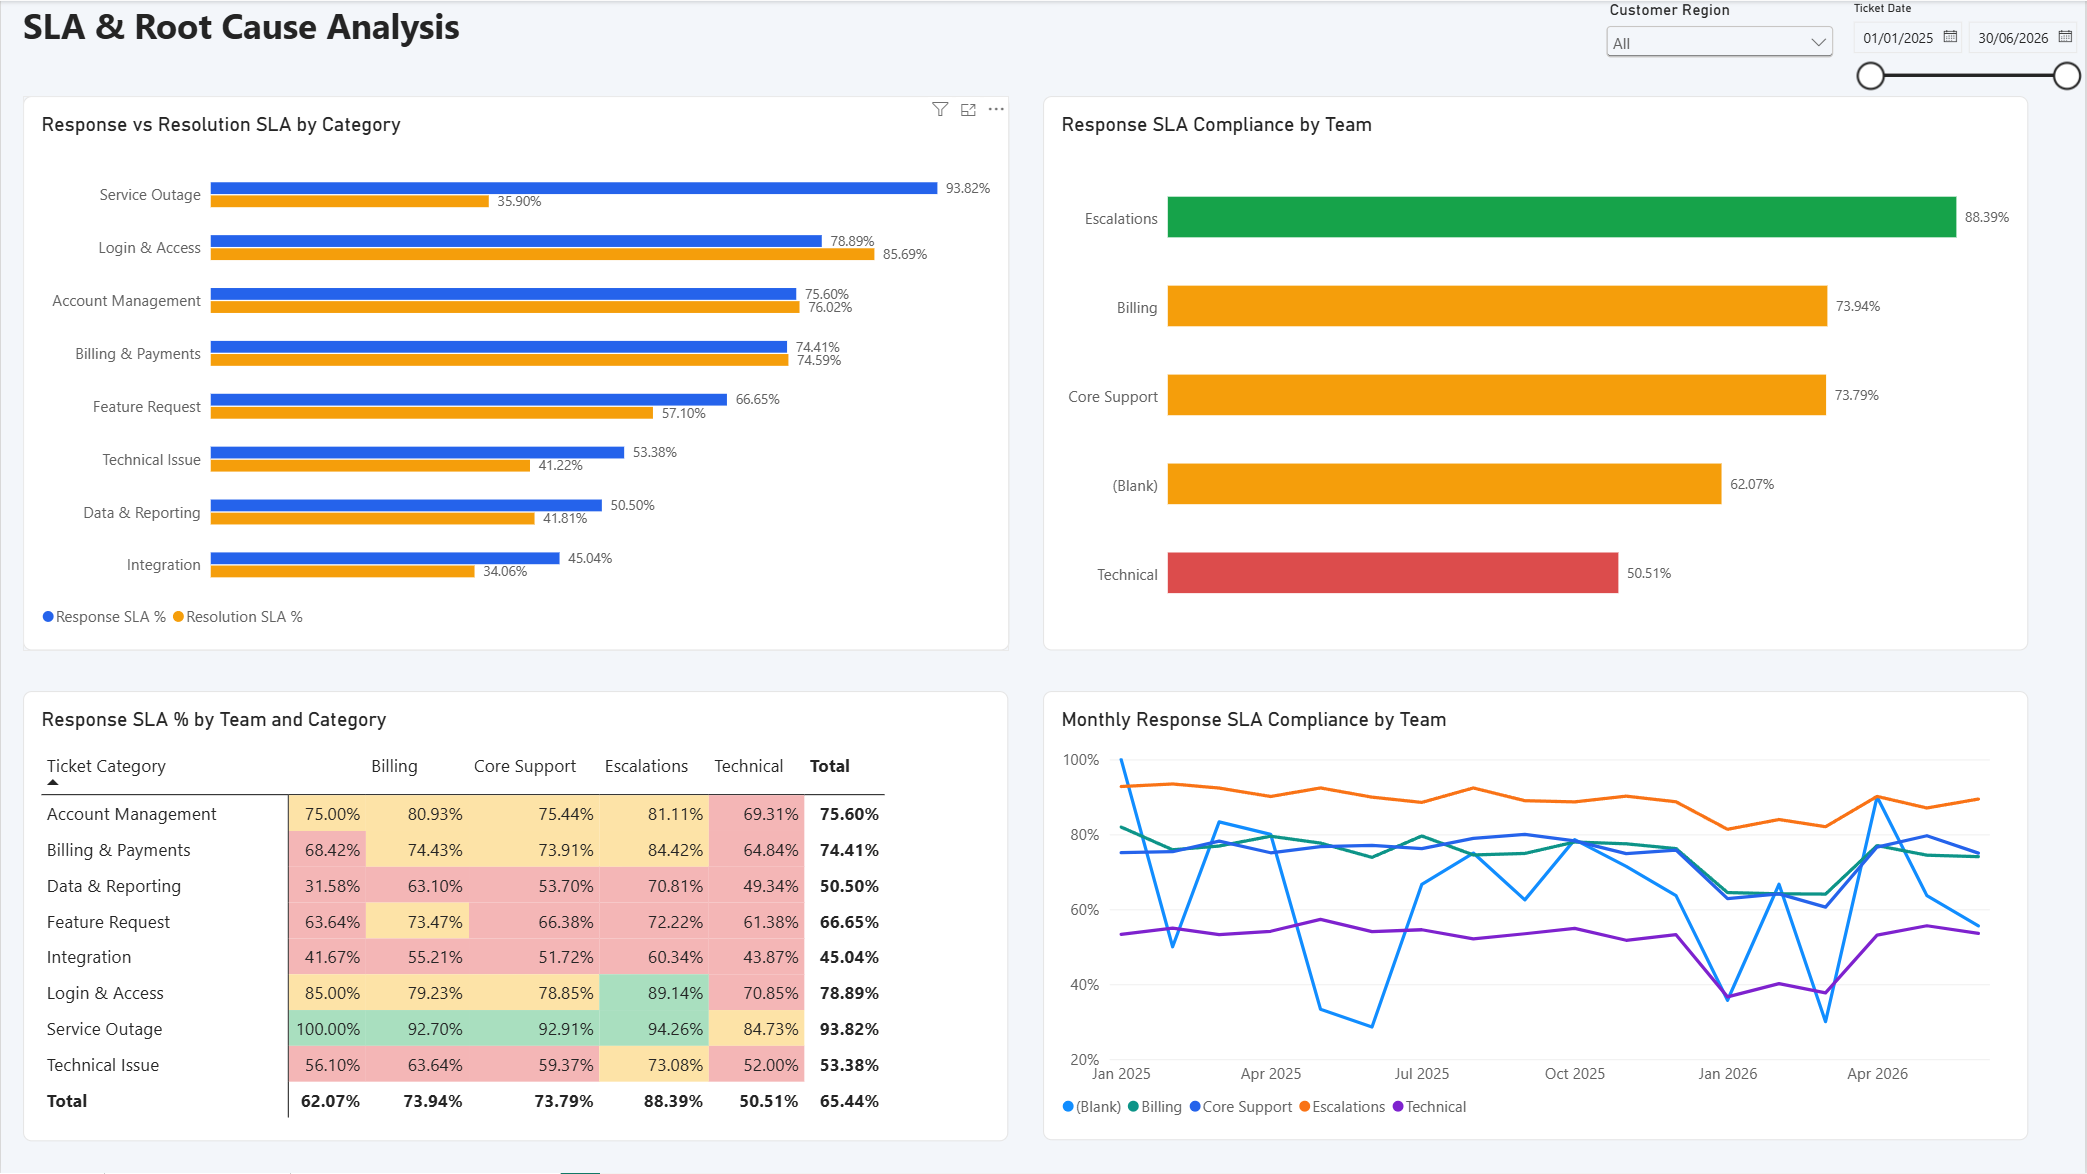

The dashboard page shown, as its layout file describes it:
{"tool":"powerbi","page":{"name":"SLA & Root Cause Analysis","canvas":[1920,1080],"ordinal":1},"visuals":[{"type":"textbox","box":[20.6,0,413.3,63.8],"z":0},{"type":"clusteredBarChart","title":"Response vs Resolution SLA by Category","fields":{"Category":["vw_ticket_analysis.category"],"Y":["vw_ticket_analysis.Response SLA %","vw_ticket_analysis.Resolution SLA %"]},"box":[20.3,87.5,908.6,511.4],"z":1000},{"type":"clusteredBarChart","title":"Response SLA Compliance by Team","fields":{"Category":["vw_ticket_analysis.team"],"Y":["vw_ticket_analysis.Response SLA %"]},"box":[960.2,87.5,907.7,511.4],"z":2000},{"type":"pivotTable","title":"Response SLA % by Team and Category","fields":{"Columns":["vw_ticket_analysis.team"],"Rows":["vw_ticket_analysis.category"],"Values":["vw_ticket_analysis.Response SLA %"]},"box":[20.3,635.8,907.7,414.7],"z":3000},{"type":"lineChart","title":"Monthly Response SLA Compliance by Team","fields":{"Category":["vw_ticket_analysis.created_at.Variation.Date Hierarchy.Year","vw_ticket_analysis.created_at.Variation.Date Hierarchy.Month","vw_ticket_analysis.created_at.Variation.Date Hierarchy.Day"],"Series":["vw_ticket_analysis.team"],"Y":["vw_ticket_analysis.Response SLA %"]},"box":[960,636.1,908,414.2],"z":4000},{"type":"slicer","fields":{"Values":["vw_ticket_analysis.created_at"]},"box":[1699.6,0,220.9,87.4],"z":5000},{"type":"slicer","fields":{"Values":["vw_ticket_analysis.region"]},"box":[1474,0,218.8,64.2],"z":6000}]}

Visuals, with their boxes in screenshot pixels (x1, y1, x2, y2), scaled from the page's 1920x1080 canvas onto the 2087x1174 screenshot:
textbox: x1=22 y1=0 x2=472 y2=69
"Response vs Resolution SLA by Category" clusteredBarChart: x1=22 y1=95 x2=1010 y2=651
"Response SLA Compliance by Team" clusteredBarChart: x1=1044 y1=95 x2=2030 y2=651
"Response SLA % by Team and Category" pivotTable: x1=22 y1=691 x2=1009 y2=1142
"Monthly Response SLA Compliance by Team" lineChart: x1=1044 y1=691 x2=2030 y2=1142
slicer - vw_ticket_analysis.created_at: x1=1847 y1=0 x2=2086 y2=95
slicer - vw_ticket_analysis.region: x1=1602 y1=0 x2=1840 y2=70
